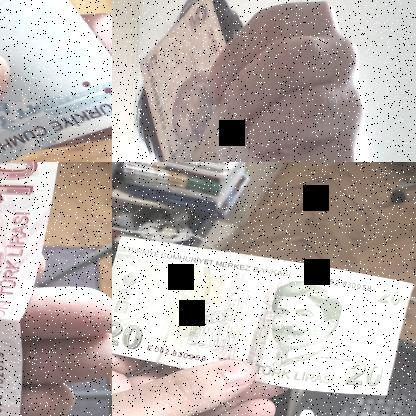5 TL: (0, 0, 111, 161)
